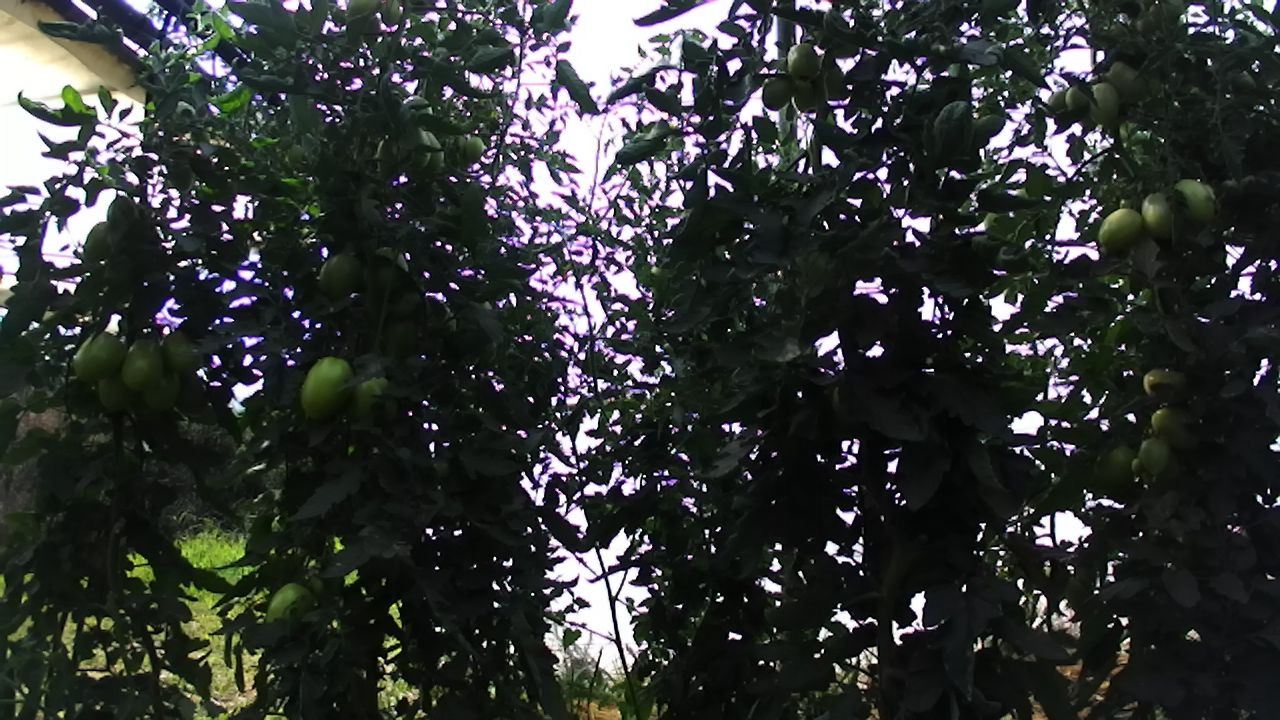tomato: (296, 352, 358, 426), (68, 327, 127, 388), (1144, 402, 1205, 457), (117, 335, 169, 393), (1169, 174, 1223, 224), (315, 250, 365, 303), (1094, 206, 1146, 254), (1138, 185, 1178, 246), (159, 327, 202, 378), (1084, 80, 1122, 127), (785, 39, 820, 82), (1137, 436, 1172, 478), (1062, 83, 1090, 112)
